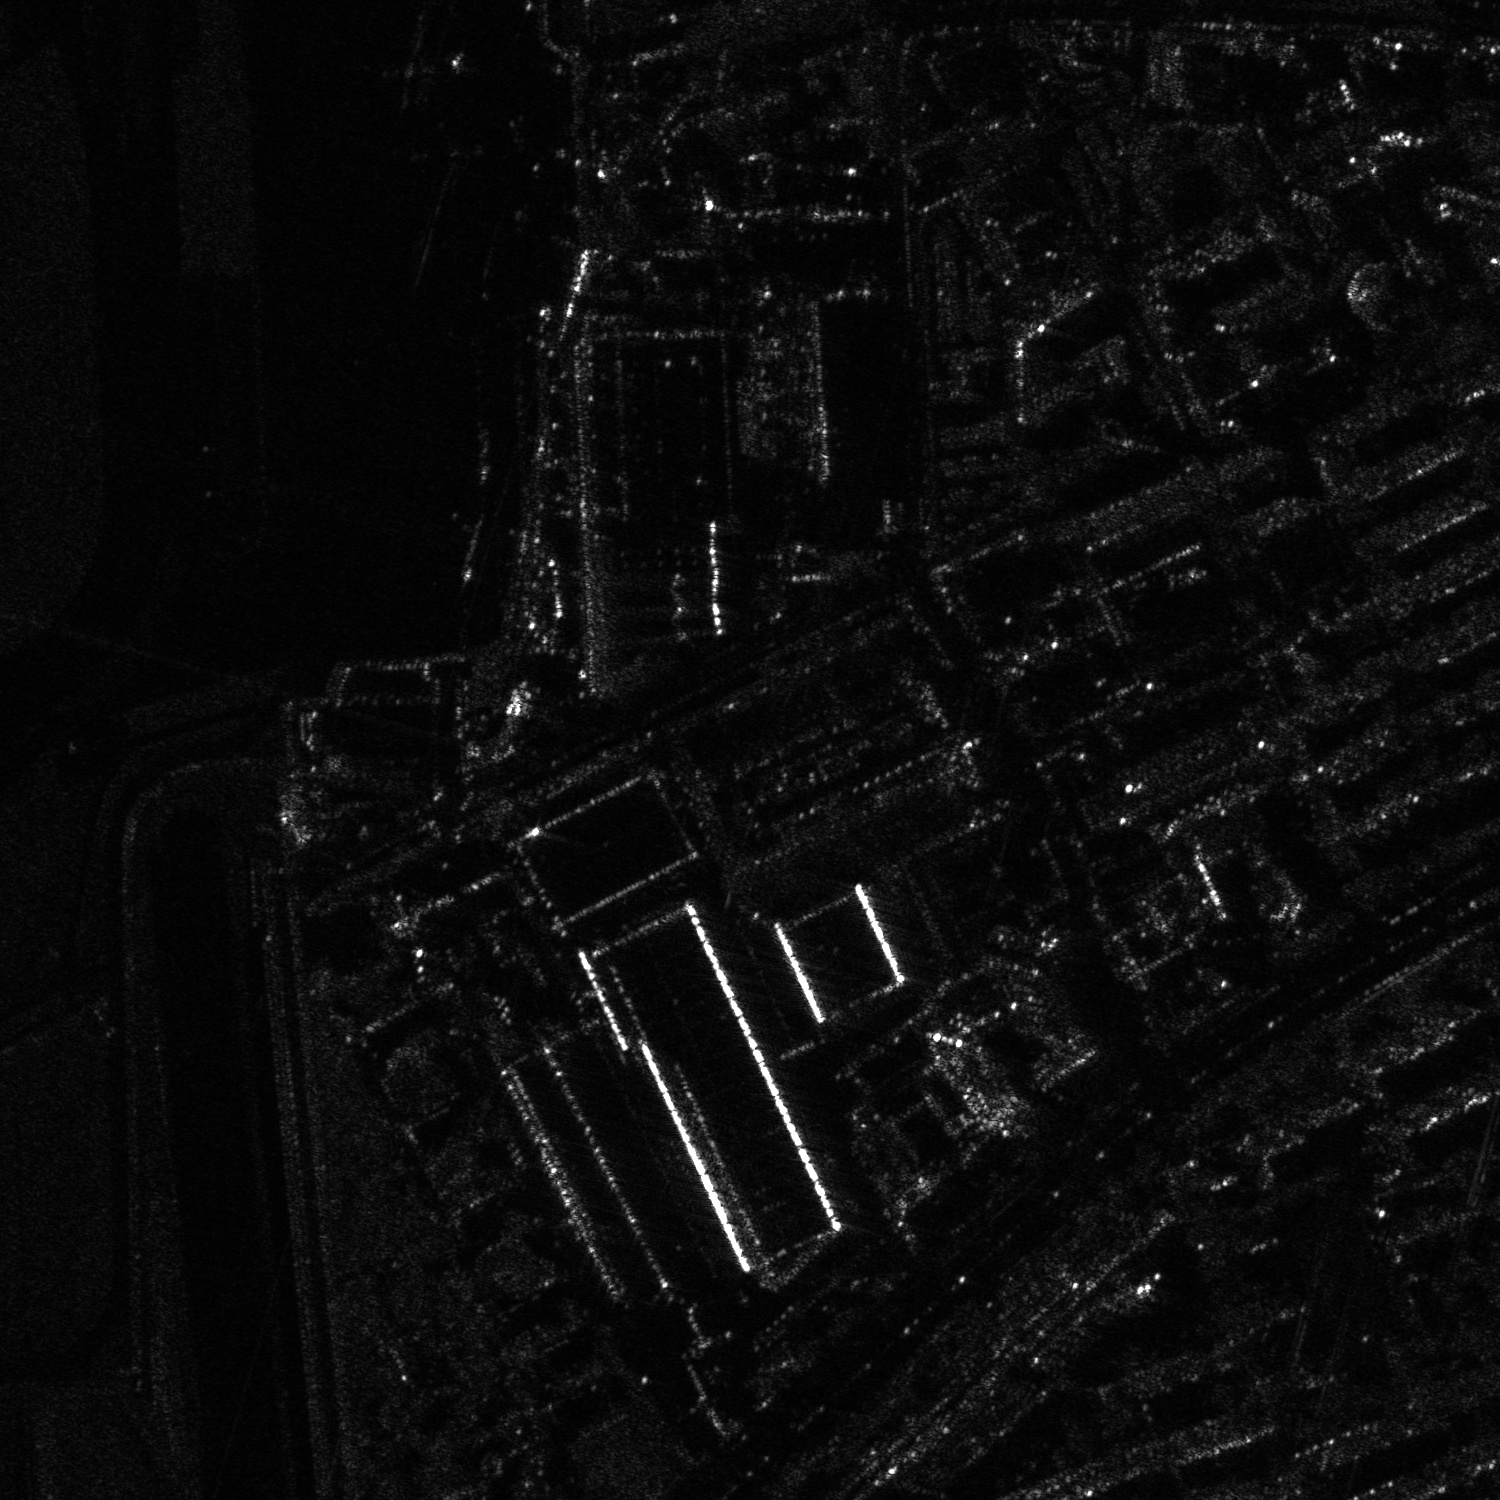A220: (365, 18, 475, 113)
ARJ21: (413, 120, 490, 194)
